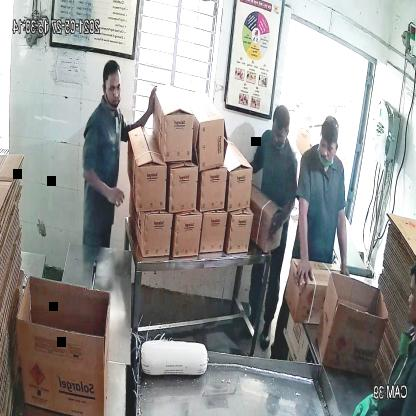no_goggles: (100, 74, 124, 98), (316, 134, 341, 156)
